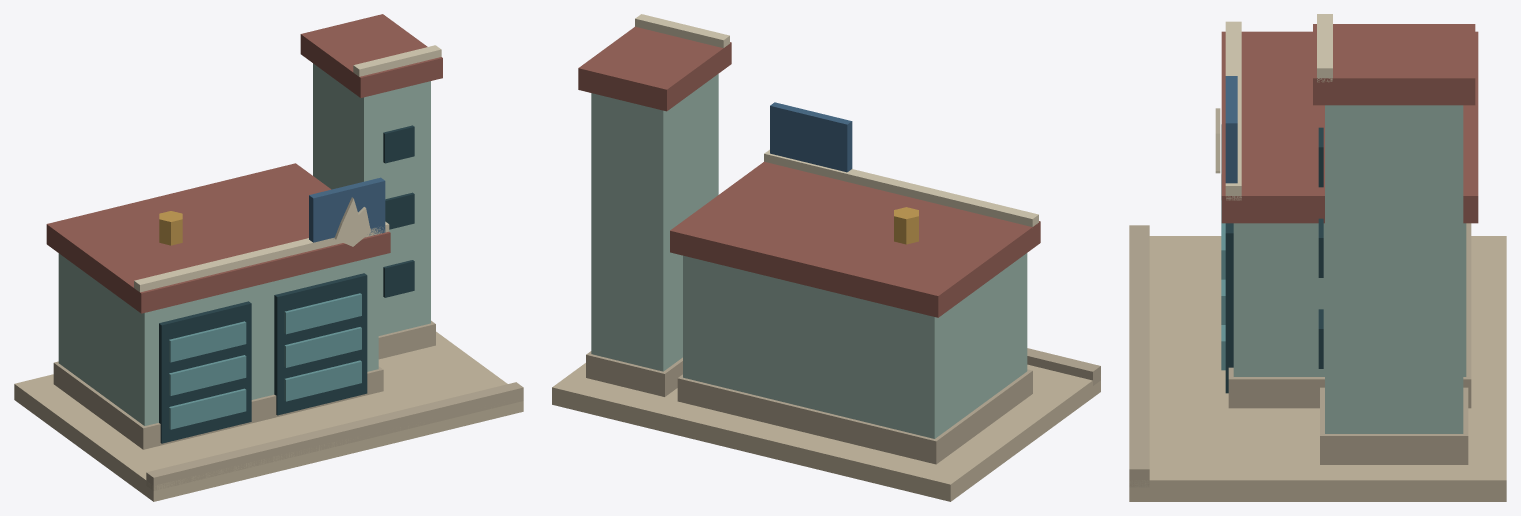
Rendered from fire-station-seabreeze-complete.glb.
3 views of the same model, side by side, from view 1: azimuth 30°, elevation 25°; view 2: azimuth 150°, elevation 25°; view 3: azimuth 270°, elevation 25° (orthographic). The views are drawn at different scales.
Visible parts, largest first — view 1: fire-station; view 2: fire-station; view 3: fire-station.
Boxes of the visible parts, box(x1,y1,x2,y2) form: fire-station: box(14, 14, 523, 501); fire-station: box(552, 14, 1100, 501); fire-station: box(1129, 14, 1506, 501).
Size of the model in its own units: 2.88 by 2.34 by 1.88.
